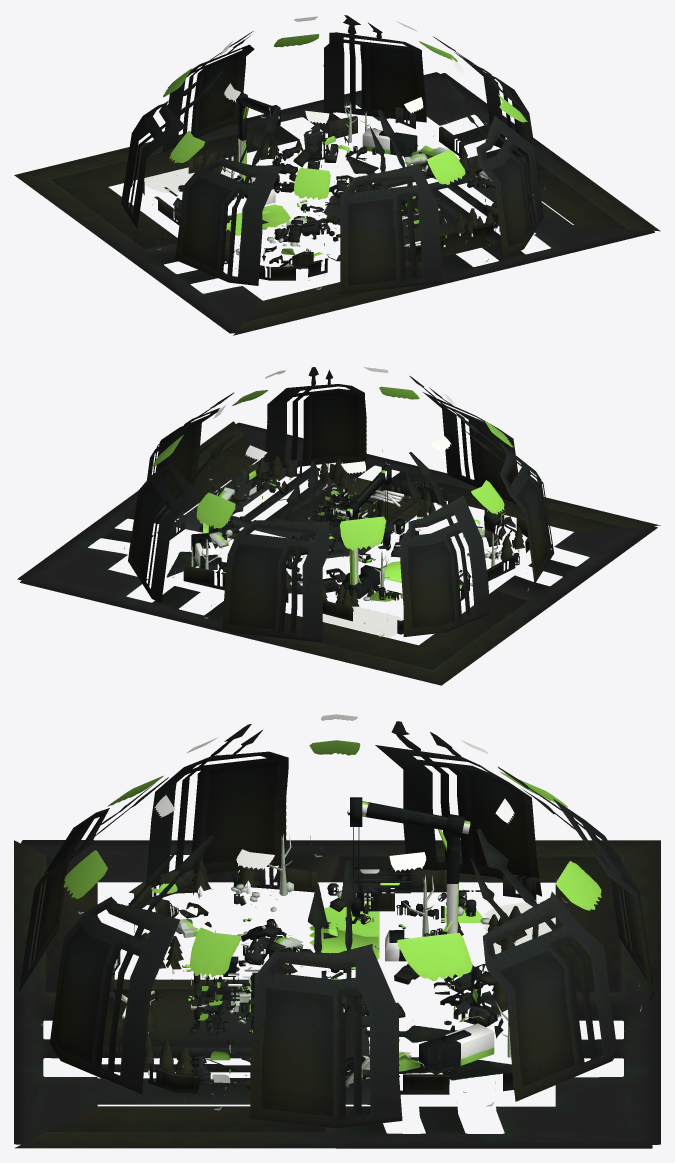
The model's file is Combined_Mesh_root_scene__8_c5249964__junkyard_diffuse_09_a_177ff898_c1f257.obj.
3 renders of one model, top to bottom at view 1: azimuth 30°, elevation 25°; view 2: azimuth 150°, elevation 25°; view 3: azimuth 270°, elevation 25°, orthographic. The views are drawn at different scales.
Bounding box in the file's own units: 109 × 41.29 × 96.33.
294 materials, 294 textured.
